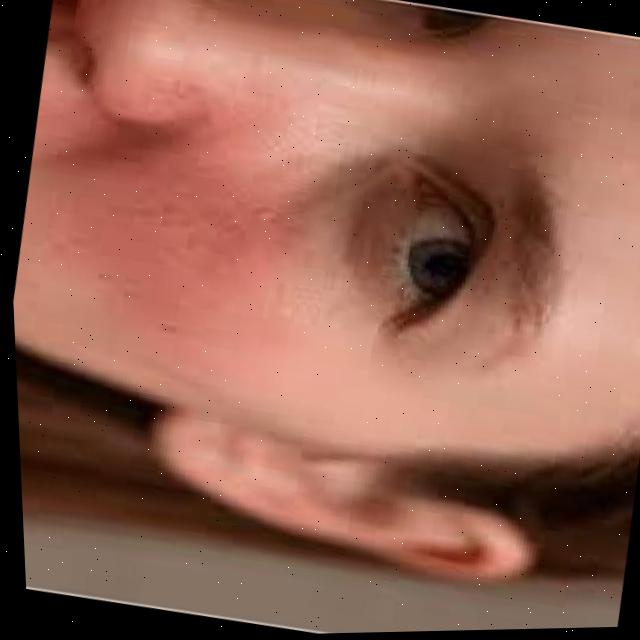Rosacea: (36, 56, 333, 365)
